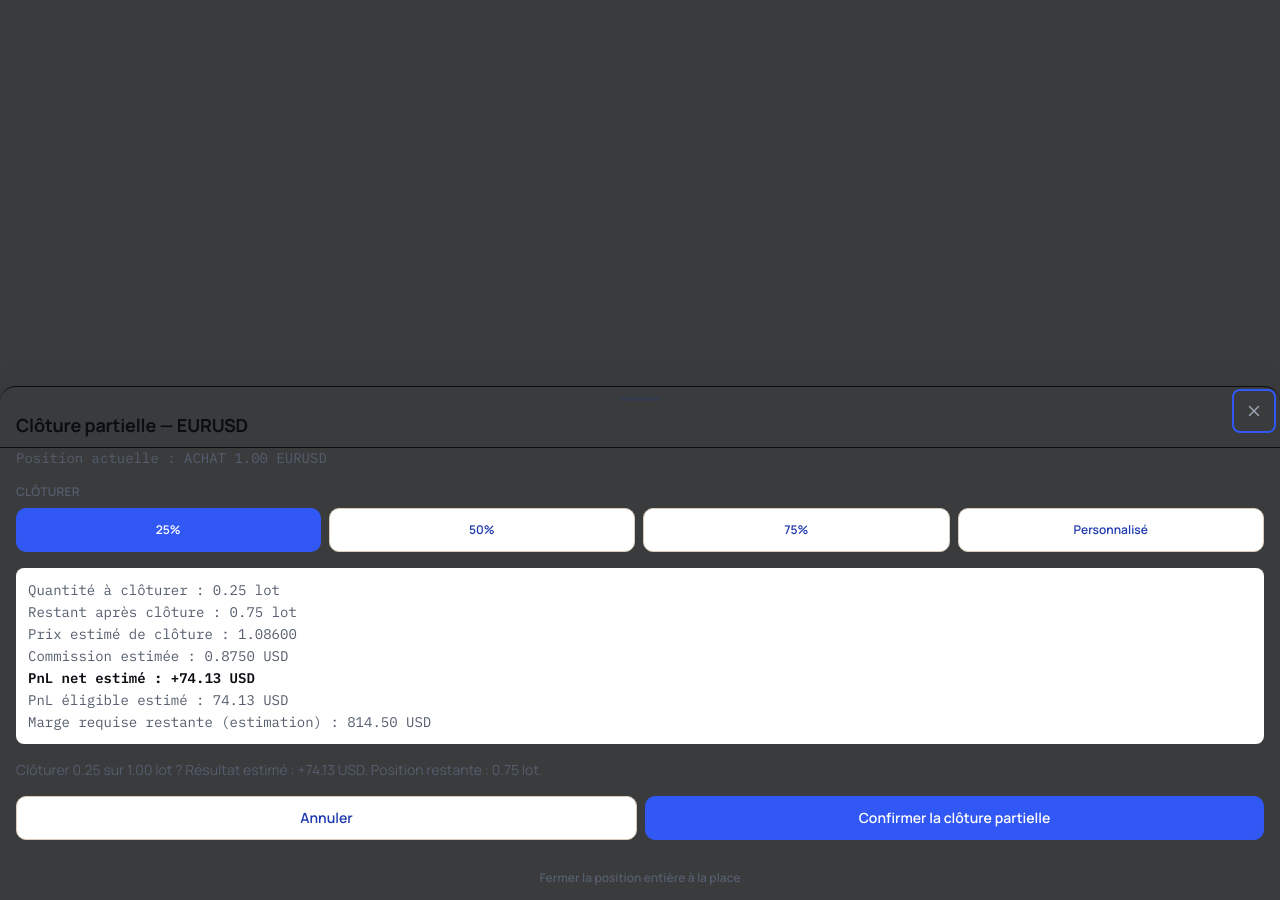
Test case: PartialCloseSheet › rounds a custom quantity to the lot step and never exceeds the open quantity
Step 1. Click the button "Personnalisé" → click(1111, 530), box [958, 508, 1264, 552]
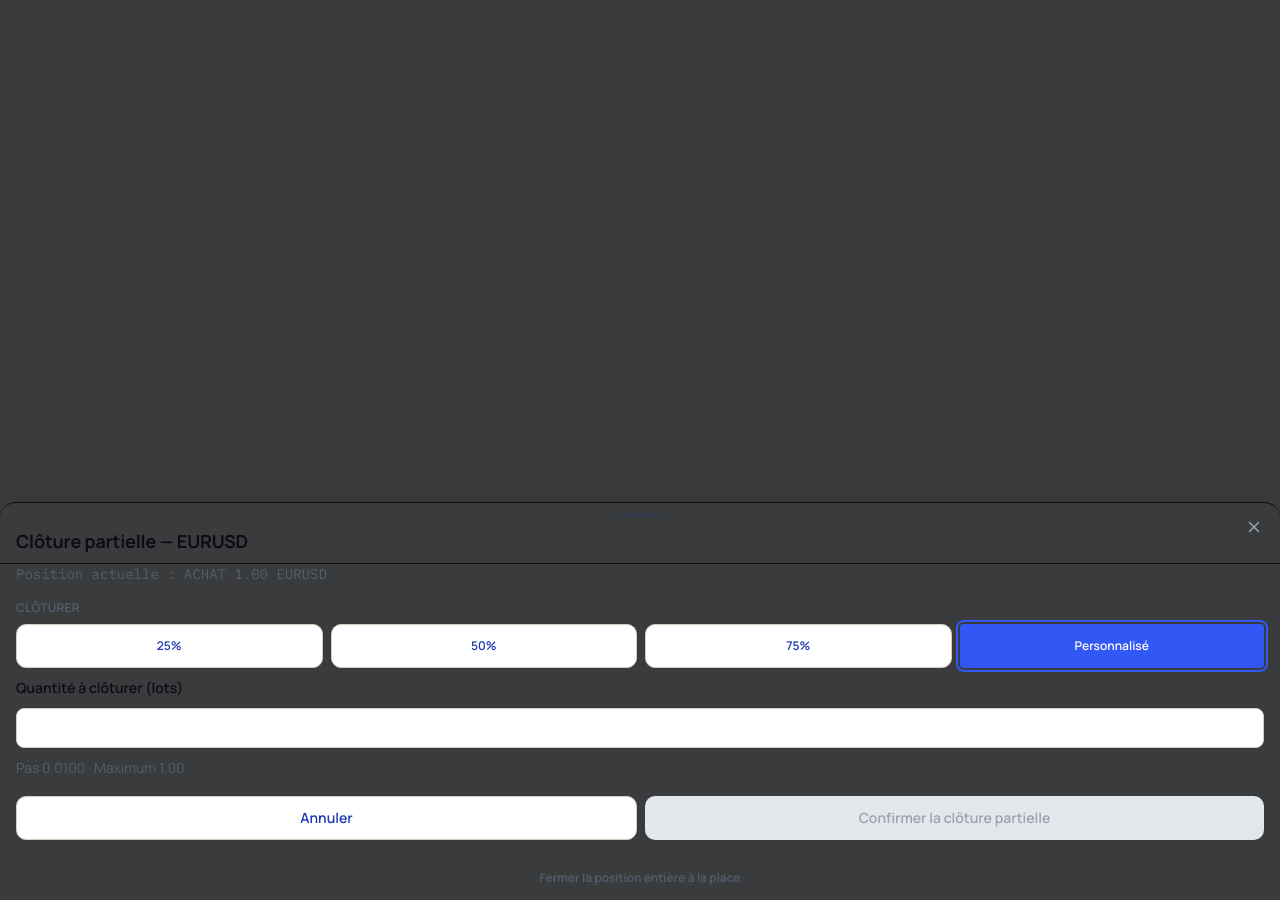
Step 2. Type "5.00" into the field labelled "Quantité à clôturer (lots)" → (640, 728), box [16, 708, 1264, 748]
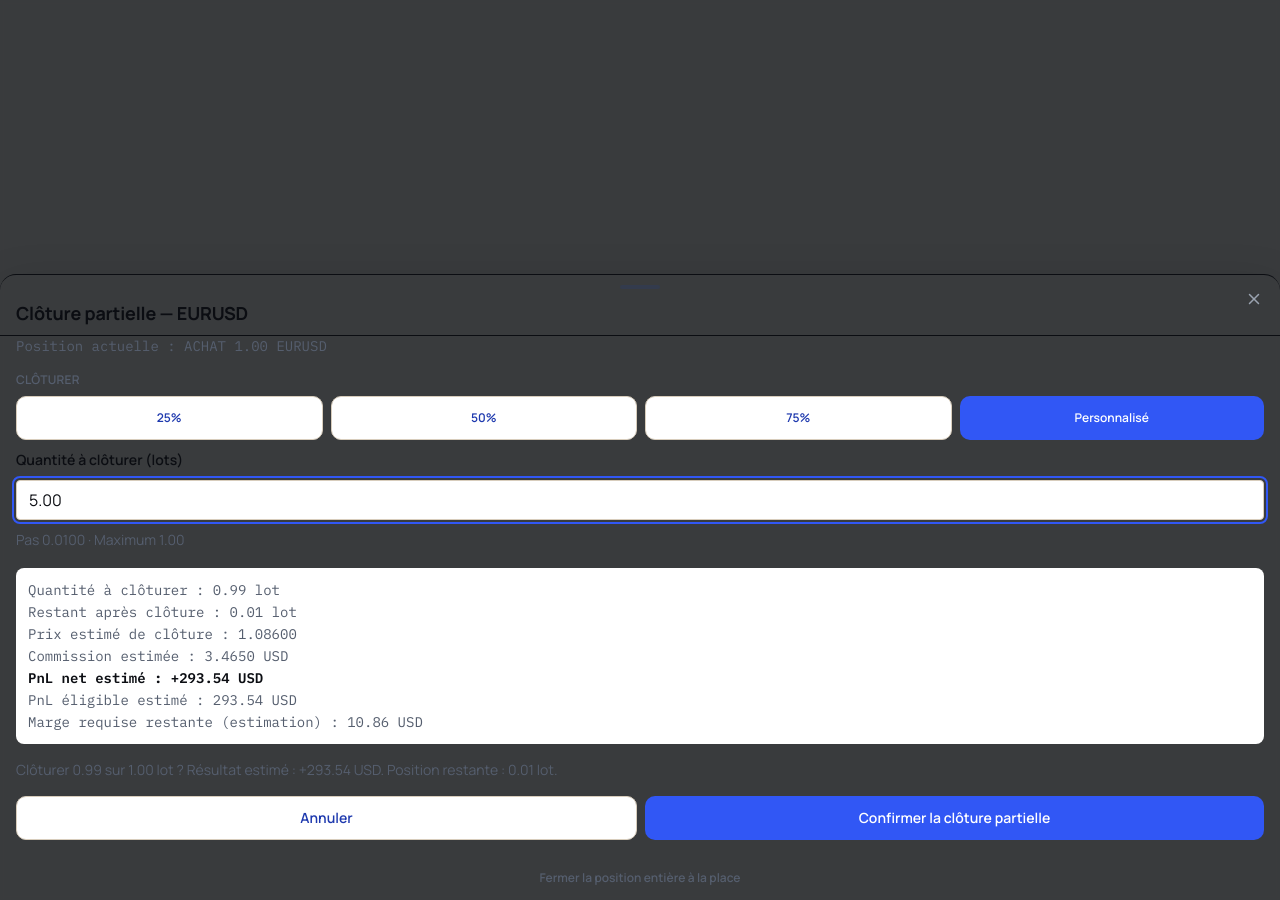
Now the text "Clôturer 0.99 sur 1.00 lot" is shown, box [16, 760, 558, 779]
